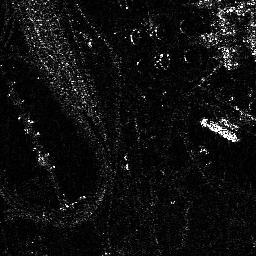ship: (199, 115, 240, 142)
